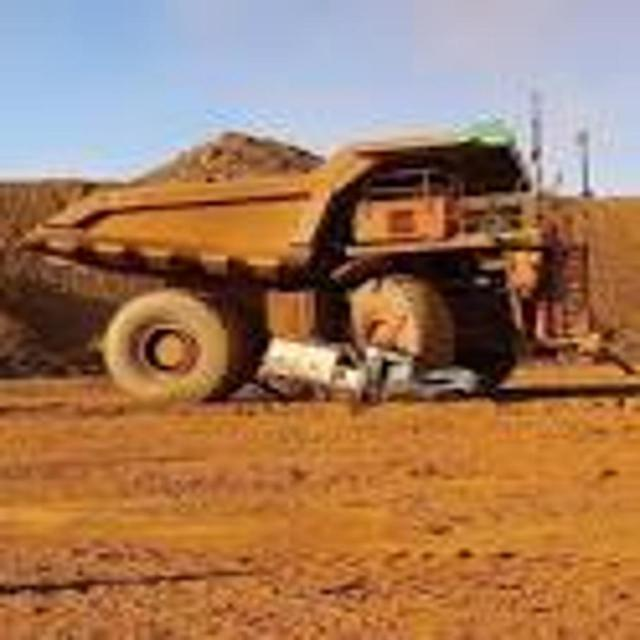dump_truck: (11, 103, 608, 403)
